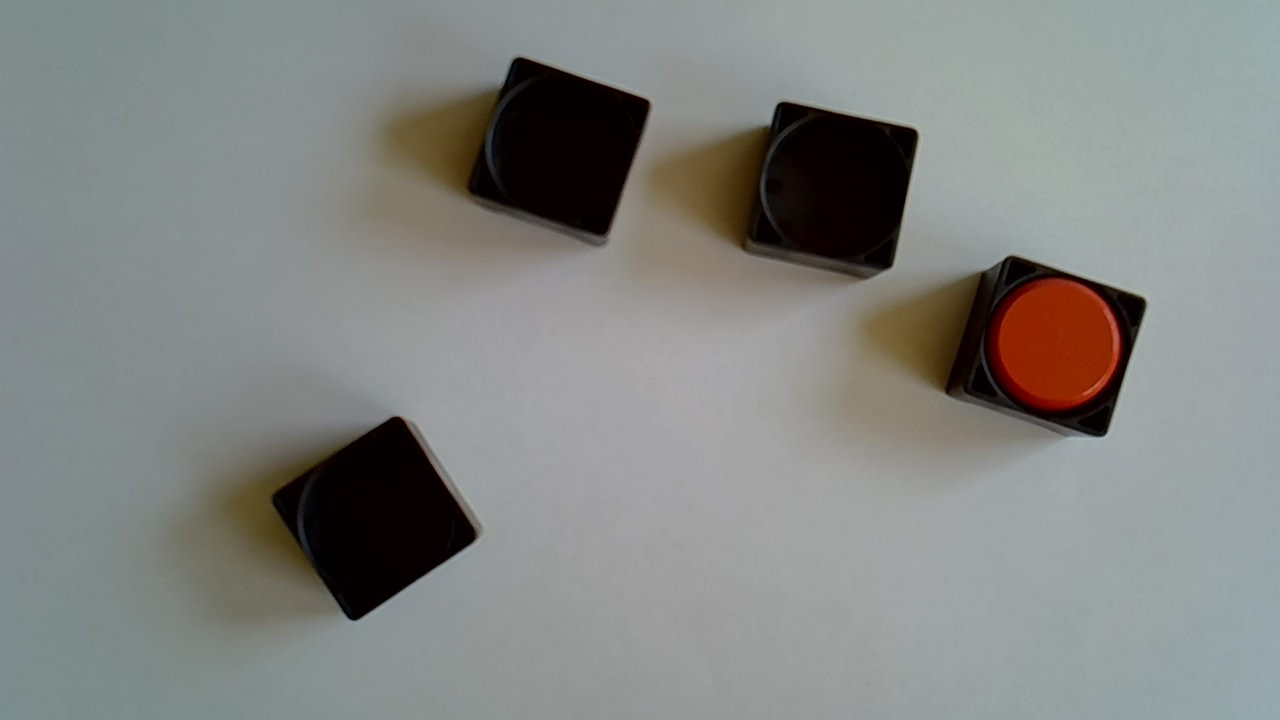Behaelter: (267, 415, 484, 624), (942, 255, 1150, 438), (464, 56, 655, 249), (746, 101, 919, 281)
WerkStueck: (984, 272, 1119, 410)
